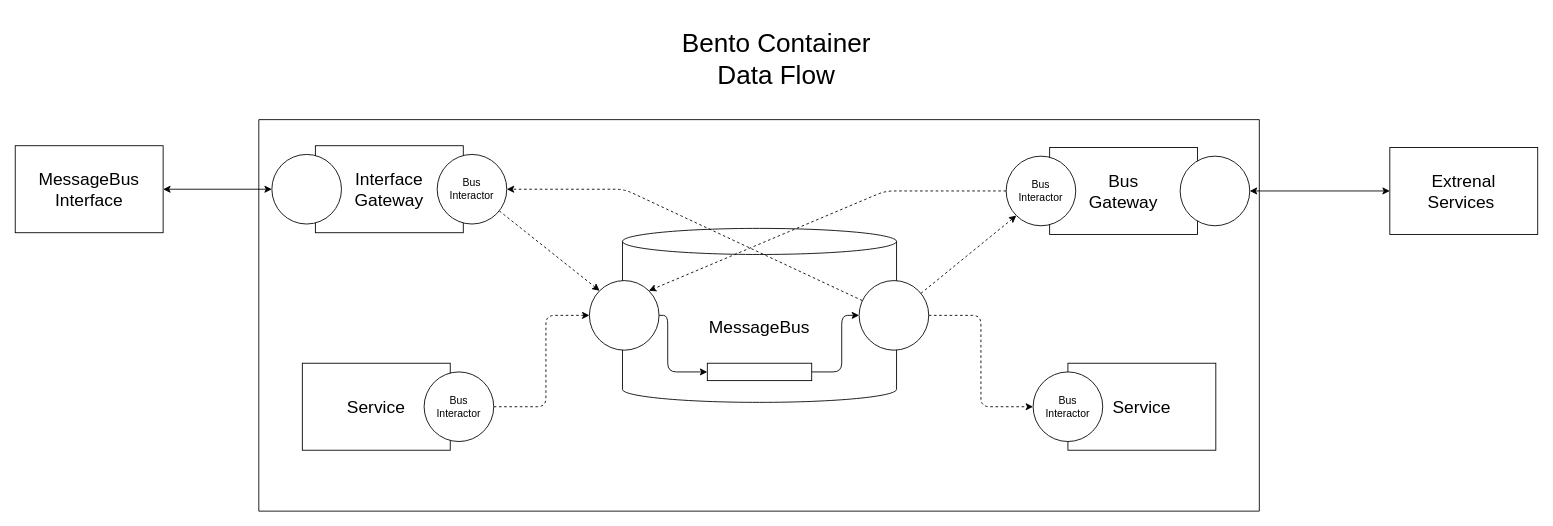
This 1553x526 diagram has some shape labels left out. The shapes that lost their labels are listed below. From the top down, each one's centre as x and y in pixels, then its label:
At [306,189]: "Http Endpoint".
At [1214,190]: "Https Endpoint".
At [624,315]: "Push Socket".
At [893,315]: "Pull Socket".
At [759,371]: "Queues".
